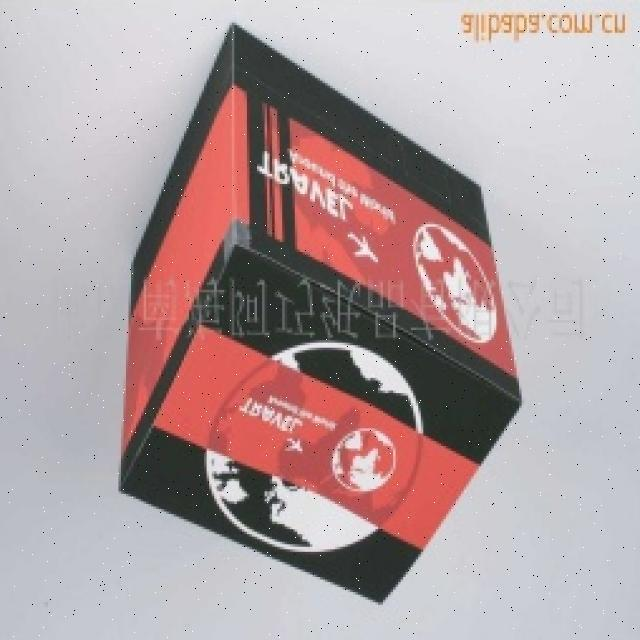box: (108, 27, 506, 570)
